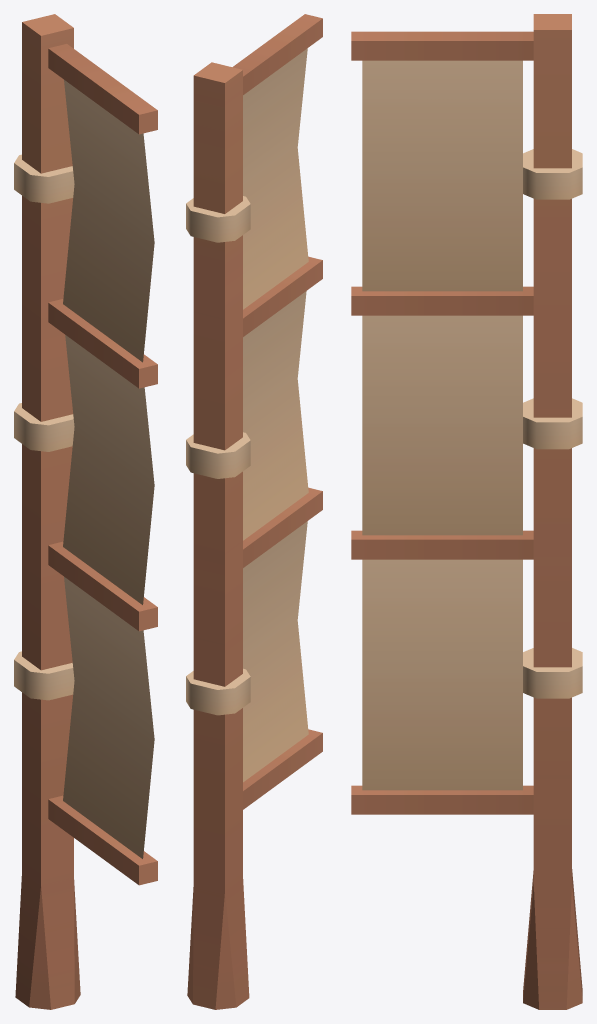
The model's file is blade.glb.
3 views of the same model, side by side, from view 1: azimuth 30°, elevation 25°; view 2: azimuth 150°, elevation 25°; view 3: azimuth 270°, elevation 25° (orthographic). The views are drawn at different scales.
Parts seen in each view (by area): view 1: blade; view 2: blade; view 3: blade.
Part boxes in pixels (box(x1,y1,x2,y2)): blade: box(14, 14, 157, 1009); blade: box(186, 14, 322, 1009); blade: box(351, 14, 582, 1009).
Bounding box in the file's own units: 0.1111 × 2 × 0.4304.
Materials: 1 (1 with a texture image).
